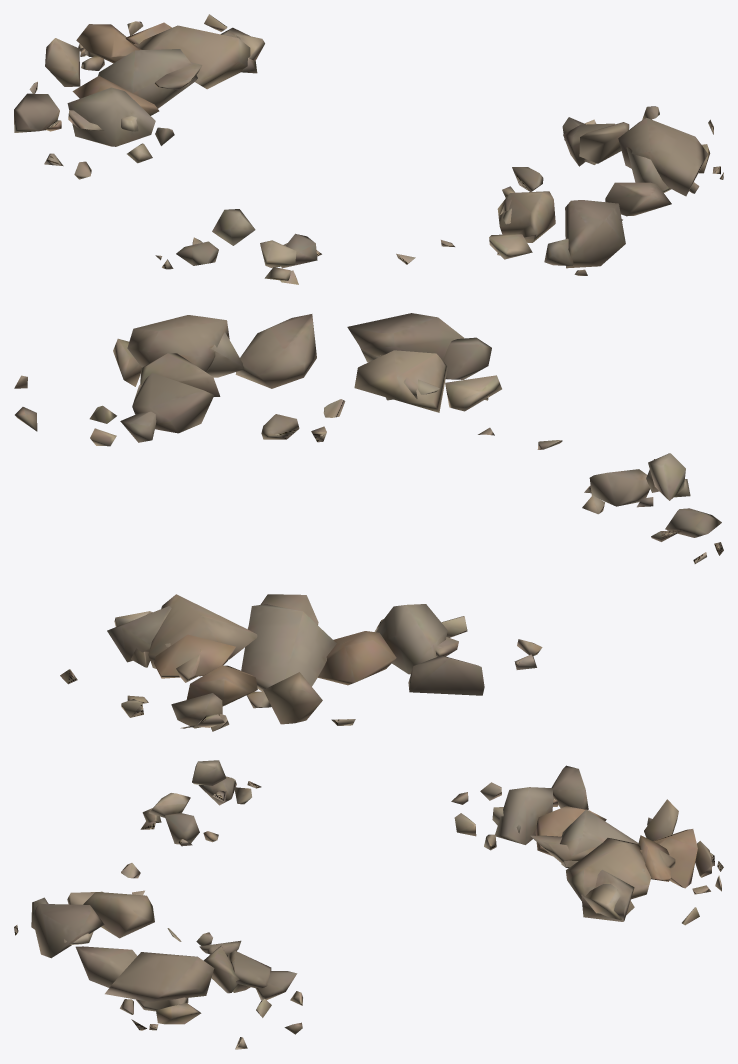
File: rough-cave-2.low.glb
3 renders of one model, top to bottom at view 1: azimuth 30°, elevation 25°; view 2: azimuth 150°, elevation 25°; view 3: azimuth 270°, elevation 25°, orthographic. The views are drawn at different scales.
Parts seen in each view (by area): view 1: rough-cave-2; view 2: rough-cave-2; view 3: rough-cave-2.
Part boxes in pixels (left/top/right/bottom): rough-cave-2: left=14, top=14, right=723, bottom=284; rough-cave-2: left=14, top=313, right=723, bottom=731; rough-cave-2: left=14, top=760, right=723, bottom=1049.
Size of the model in its own units: 1.44 by 0.1623 by 1.63.
Materials: 1 (1 with a texture image).
